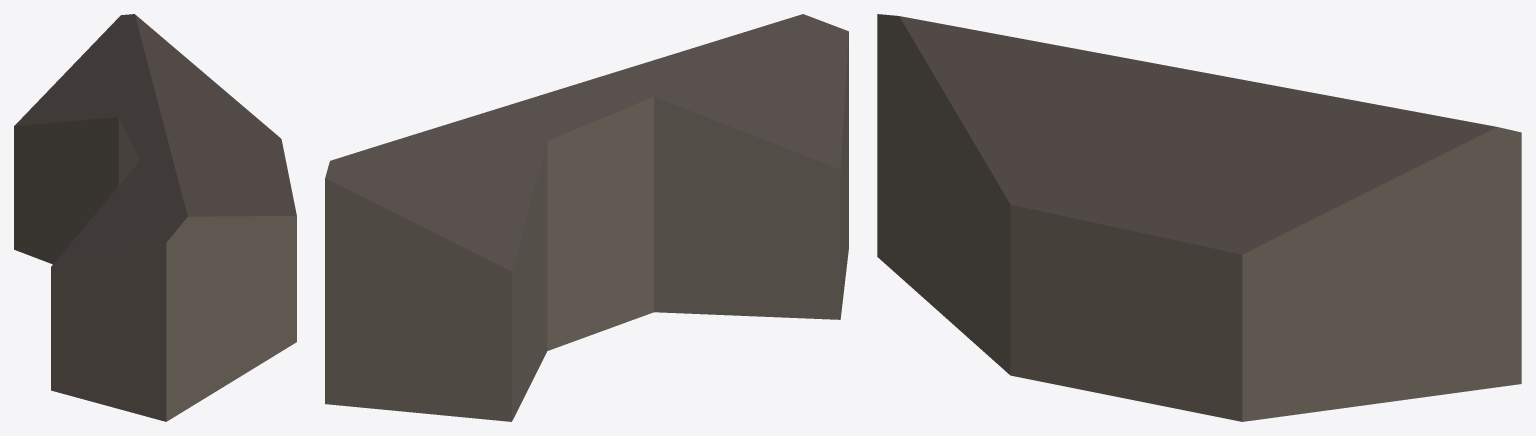
The picture shows the model from 3 angles, left to right: view 1: azimuth 30°, elevation 25°; view 2: azimuth 150°, elevation 25°; view 3: azimuth 270°, elevation 25°; orthographic projection. The views are drawn at different scales.
Parts seen in each view (by area): view 1: HP-w1200832209; view 2: HP-w1200832209; view 3: HP-w1200832209.
Part boxes in pixels (bbox=[...]): HP-w1200832209: bbox=[14, 14, 296, 421]; HP-w1200832209: bbox=[325, 14, 848, 421]; HP-w1200832209: bbox=[877, 14, 1521, 421].
Size of the model in its own units: 23.21 by 14.01 by 31.43.
